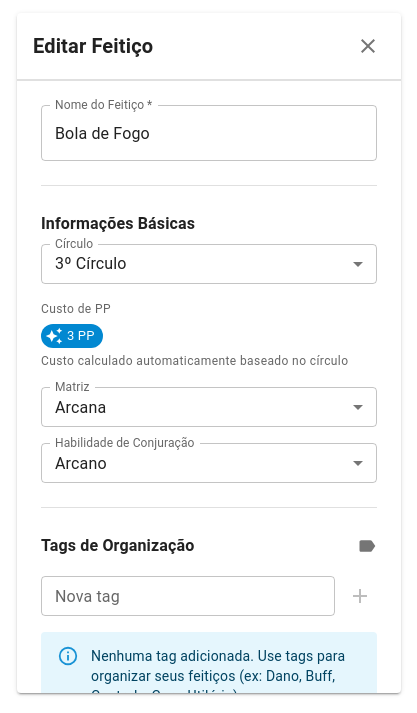
SpellDetailsSidebar › Edição de Campos › deve validar que o nome é obrigatório
The image size is (417, 713).
Clear the field labelled "Nome do Feitiço *" at x=209, y=133, box 41,105 -> 377,161
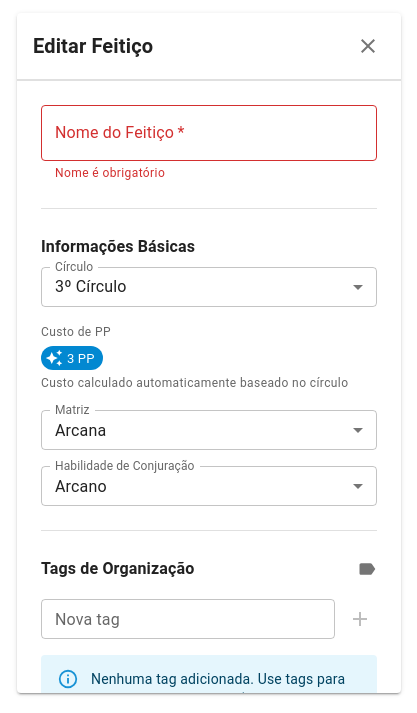
expect the text "Nome é obrigatório" is shown: met, box 55,166 -> 165,180
